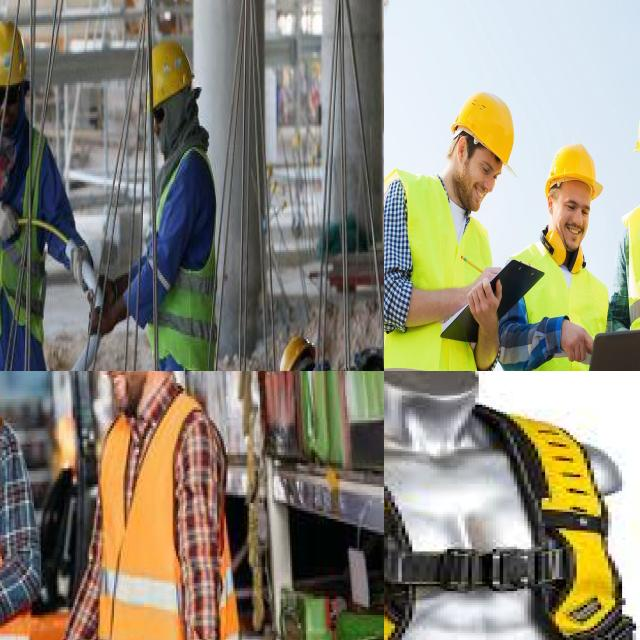Harness: (384, 399, 631, 640)
face_nomask: (552, 178, 602, 256), (459, 134, 506, 215), (89, 371, 146, 409), (0, 86, 21, 137)
hand_glove: (87, 291, 127, 341), (68, 230, 92, 296), (100, 264, 130, 306), (0, 197, 21, 244)
hand_noglove: (556, 313, 597, 370), (466, 274, 502, 326)
head_helmet: (451, 90, 517, 177), (144, 40, 198, 106), (545, 142, 604, 201), (0, 23, 28, 85), (274, 335, 315, 371)
person: (78, 371, 241, 640), (139, 48, 215, 371), (505, 148, 612, 371), (0, 22, 47, 371), (277, 317, 374, 371)
vest: (91, 388, 235, 640), (384, 166, 484, 371), (159, 149, 218, 370), (509, 238, 605, 371), (0, 124, 37, 330)
